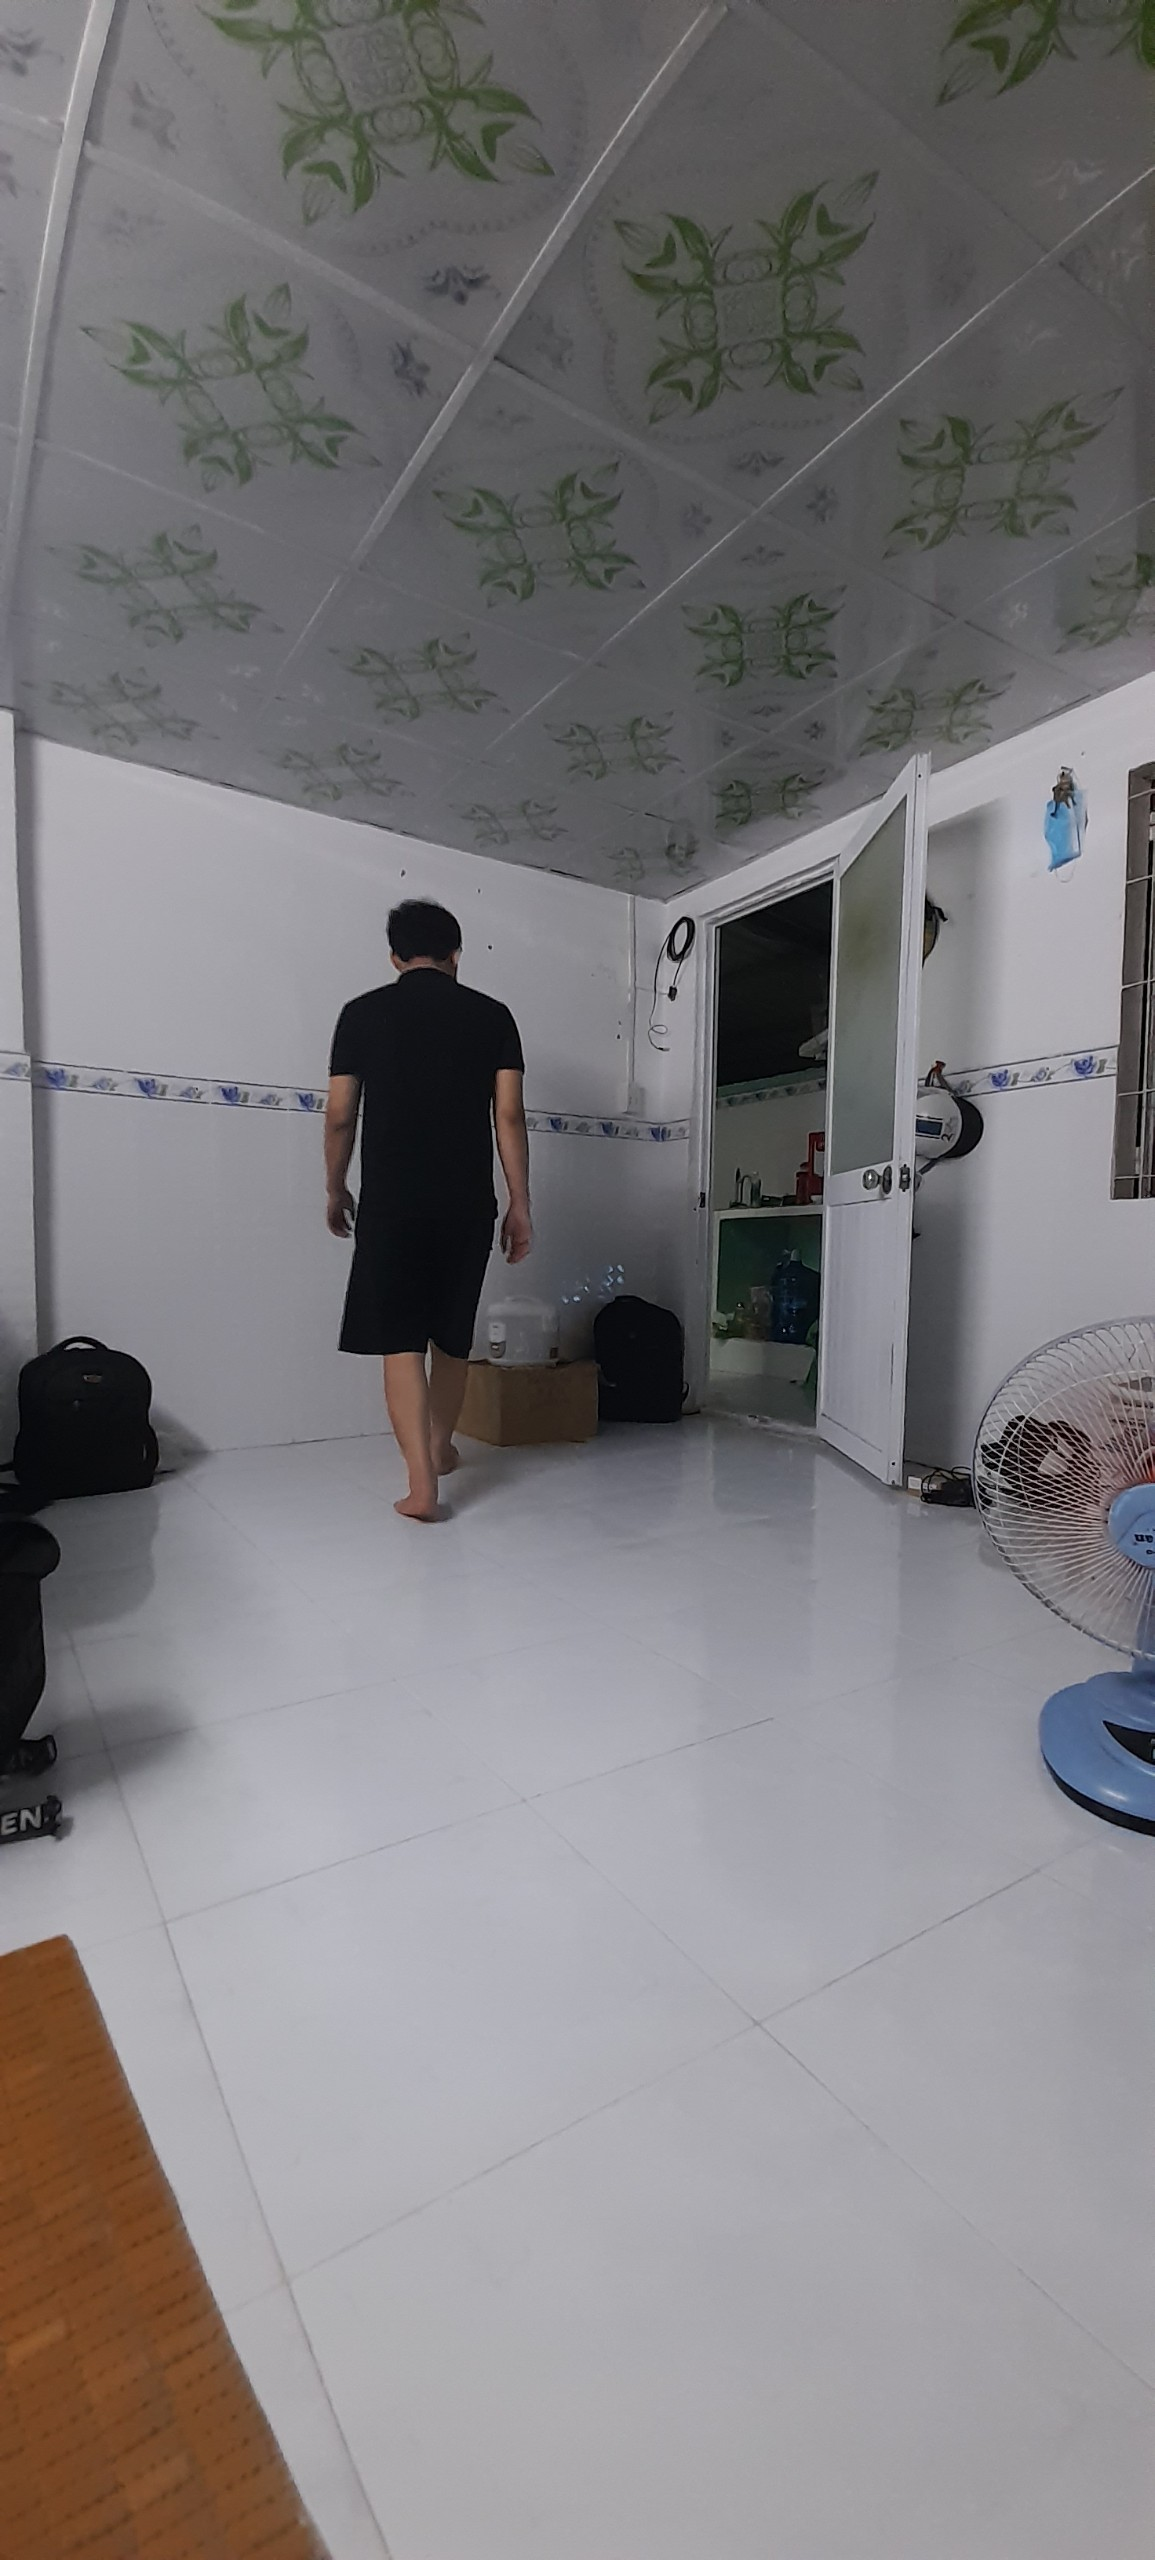person: (322, 903, 527, 1533)
